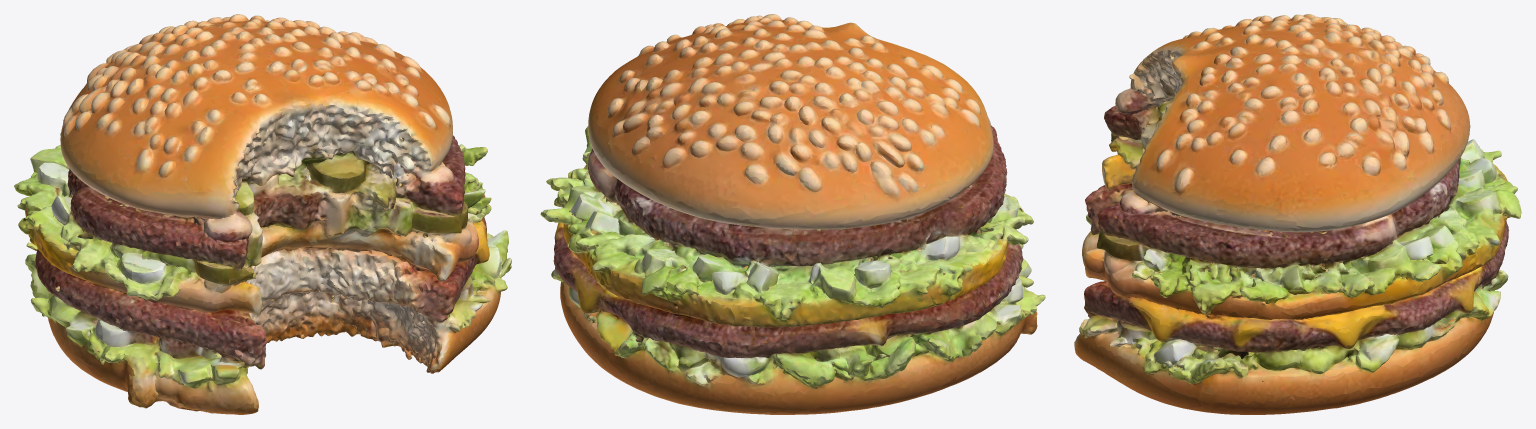
Rendered from burger-2.glb.
3 renders of one model, left to right at view 1: azimuth 30°, elevation 25°; view 2: azimuth 150°, elevation 25°; view 3: azimuth 270°, elevation 25°, orthographic. The views are drawn at different scales.
Parts seen in each view (by area): view 1: geometry_0; view 2: geometry_0; view 3: geometry_0.
Boxes of the visible parts, x1,y1,x2,y2 form: geometry_0: (14, 14, 511, 414); geometry_0: (540, 14, 1045, 414); geometry_0: (1074, 14, 1521, 414).
Size of the model in its own units: 0.1927 by 0.125 by 0.1773.
Materials: 1 (1 with a texture image).
